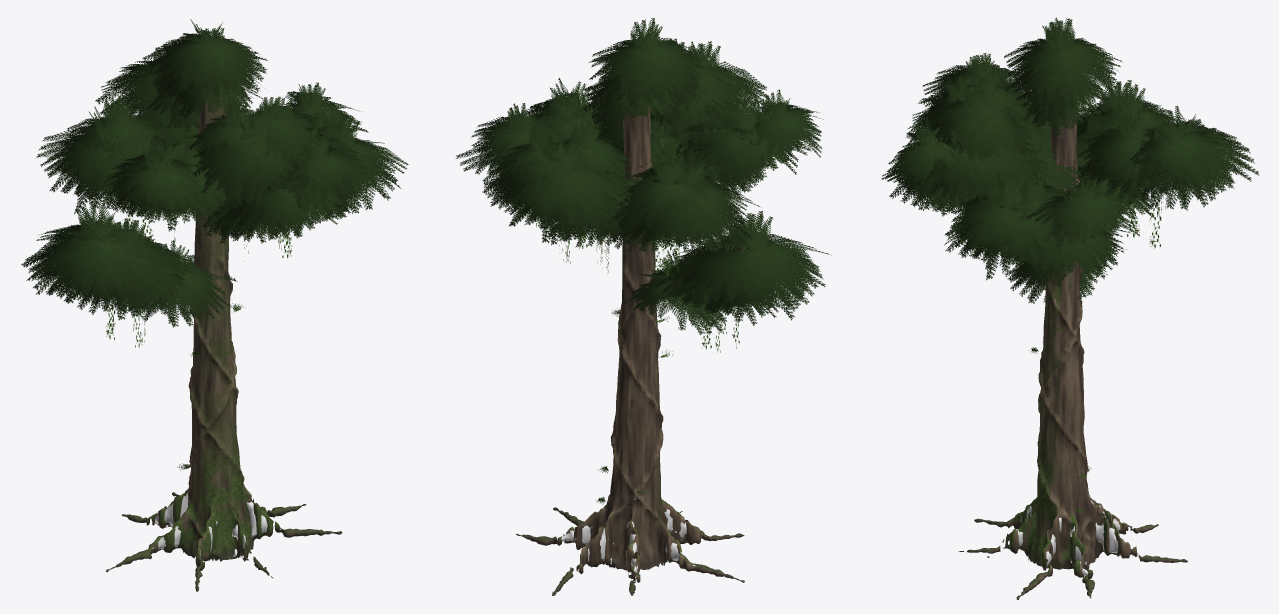
File: LM_GiantTree.fbx
The picture shows the model from 3 angles, left to right: view 1: azimuth 30°, elevation 25°; view 2: azimuth 150°, elevation 25°; view 3: azimuth 270°, elevation 25°; orthographic projection.
Visible parts, largest first — view 1: LM_GiantTree_LOD0, LM_GiantTree_COL; view 2: LM_GiantTree_LOD0, LM_GiantTree_COL; view 3: LM_GiantTree_LOD0, LM_GiantTree_COL.
Boxes of the visible parts, left/top/right/bottom form: LM_GiantTree_LOD0: left=21, top=19, right=408, bottom=591; LM_GiantTree_COL: left=152, top=493, right=281, bottom=559; LM_GiantTree_LOD0: left=456, top=18, right=831, bottom=595; LM_GiantTree_COL: left=561, top=498, right=695, bottom=575; LM_GiantTree_LOD0: left=881, top=17, right=1259, bottom=599; LM_GiantTree_COL: left=1001, top=500, right=1139, bottom=575.
Size of what is drawn, in the model's own units: 42.27 by 59.59 by 40.3.
